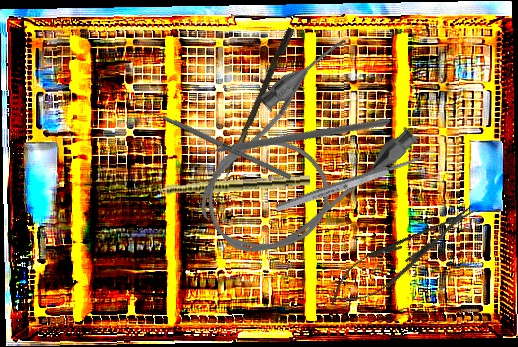Cannula: (170, 29, 428, 282)
Chopper: (180, 30, 391, 235)
Handpiece: (132, 172, 311, 199)
Hook Surgical: (209, 25, 295, 216)
Needle Holder: (319, 192, 485, 319)
Pusher: (130, 100, 293, 180)
Surgical Spoon: (274, 149, 437, 214)
